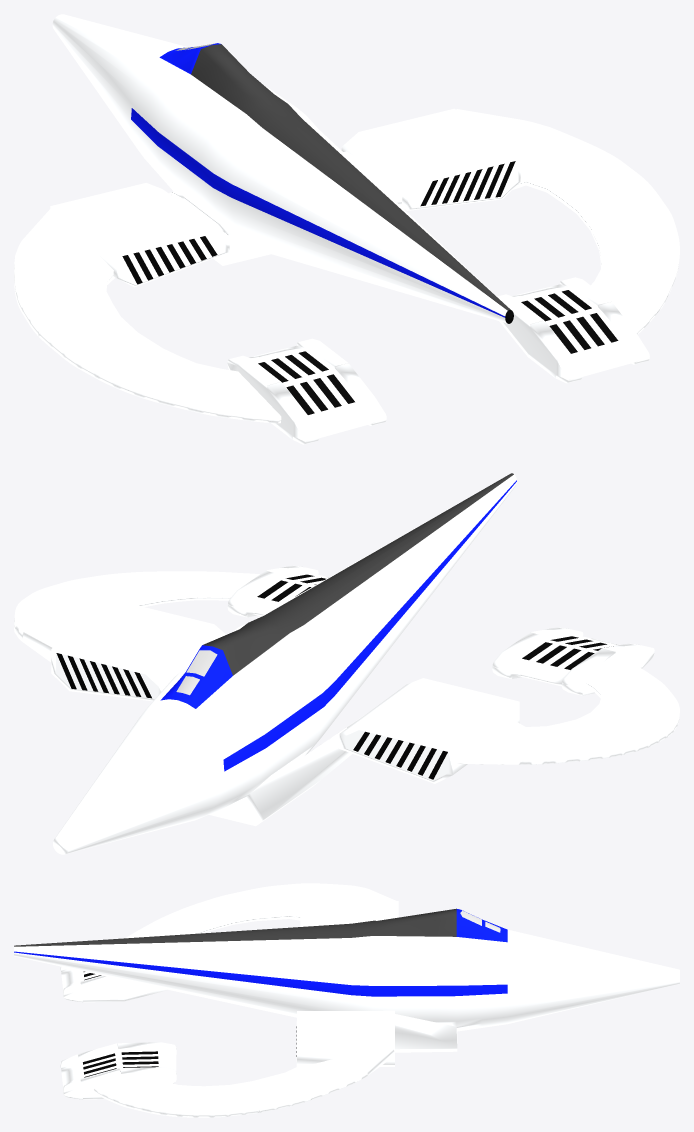
The model's file is Protector11.glb.
The picture shows the model from 3 angles, top to bottom: view 1: azimuth 30°, elevation 25°; view 2: azimuth 150°, elevation 25°; view 3: azimuth 270°, elevation 25°; orthographic projection. The views are drawn at different scales.
Parts seen in each view (by area): view 1: hull, left wing, right wing, right_front_engine, left_front_engine, right engine cube, right engine cube.001; view 2: hull, left wing, left_front_engine, right_front_engine, right wing, right engine cube.001, right engine cube; view 3: hull, right wing, left wing, right_front_engine, right engine cube, right engine cube.001, left_front_engine.
Boxes of the visible parts, x1=… form: hull: x1=52, y1=14, x2=513, y2=323; left wing: x1=14, y1=207, x2=281, y2=423; right wing: x1=456, y1=109, x2=679, y2=334; right_front_engine: x1=341, y1=108, x2=520, y2=210; left_front_engine: x1=50, y1=183, x2=229, y2=287; right engine cube: x1=497, y1=277, x2=649, y2=383; right engine cube.001: x1=227, y1=338, x2=386, y2=444; hull: x1=53, y1=473, x2=516, y2=854; left wing: x1=453, y1=663, x2=679, y2=764; left_front_engine: x1=339, y1=678, x2=519, y2=783; right_front_engine: x1=51, y1=601, x2=225, y2=701; right wing: x1=14, y1=571, x2=259, y2=662; right engine cube.001: x1=492, y1=627, x2=654, y2=695; right engine cube: x1=227, y1=565, x2=328, y2=617; hull: x1=14, y1=908, x2=679, y2=1052; right wing: x1=93, y1=1045, x2=394, y2=1117; left wing: x1=125, y1=883, x2=395, y2=938; right_front_engine: x1=296, y1=1010, x2=394, y2=1066; right engine cube: x1=60, y1=1042, x2=176, y2=1099; right engine cube.001: x1=60, y1=966, x2=167, y2=1002; left_front_engine: x1=300, y1=900, x2=398, y2=926.
Size of the model in its own units: 3.95 by 1.05 by 5.05.
